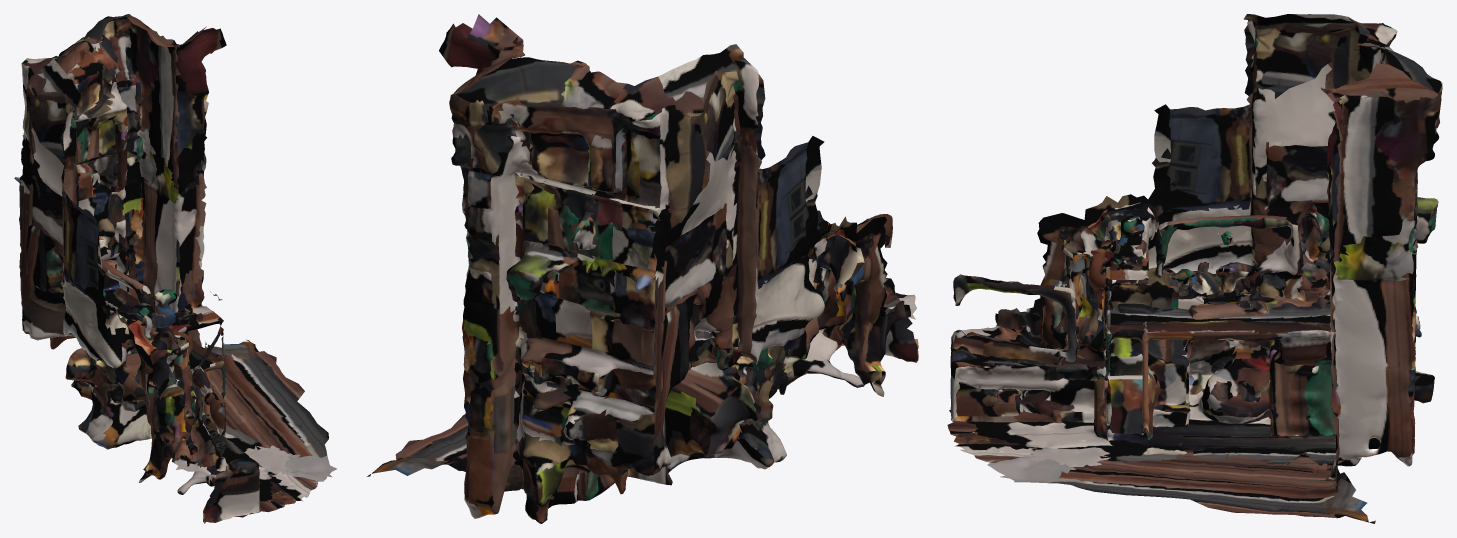
The model's file is desk.fbx.
The picture shows the model from 3 angles, left to right: view 1: azimuth 30°, elevation 25°; view 2: azimuth 150°, elevation 25°; view 3: azimuth 270°, elevation 25°; orthographic projection. The views are drawn at different scales.
Visible parts, largest first — view 1: desk; view 2: desk; view 3: desk.
Part boxes in pixels (x1,y1,x2,y2): desk: (14, 14, 336, 523); desk: (367, 14, 918, 523); desk: (947, 14, 1442, 523).
Size of the model in its own units: 252 by 337 by 378.
